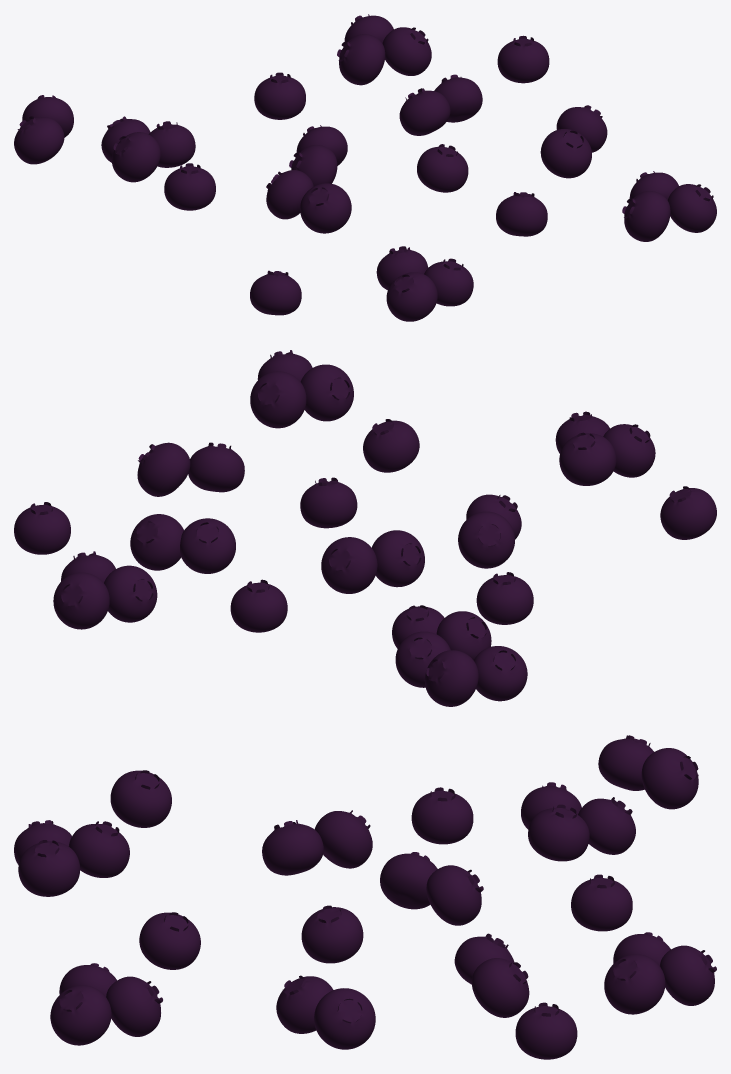
File: DecoBlueberry.glb
3 renders of one model, top to bottom at view 1: azimuth 30°, elevation 25°; view 2: azimuth 150°, elevation 25°; view 3: azimuth 270°, elevation 25°, orthographic. The views are drawn at different scales.
Parts seen in each view (by area): view 1: Sphere.023, Sphere.022, Sphere.033, Sphere.030, Sphere.017, Sphere.035, Sphere.041, Sphere.018, Sphere.039, Sphere.044, Sphere.036, Sphere.038 (+16 smaller); view 2: Sphere.024, Sphere.034, Sphere.040, Sphere.026, Sphere.019, Sphere.020, Sphere.037, Sphere.043, Sphere.041, Sphere.035, Sphere.025, Sphere.027 (+16 smaller); view 3: Sphere.032, Sphere.036, Sphere.042, Sphere.031, Sphere.027, Sphere.017, Sphere.021, Sphere.037, Sphere.039, Sphere.044, Sphere.018, Sphere.043 (+16 smaller).
Part boxes in pixels (<box>): Sphere.023: <box>300,183,351,233</box>; Sphere.022: <box>386,272,437,321</box>; Sphere.033: <box>540,129,591,178</box>; Sphere.030: <box>112,132,160,182</box>; Sphere.017: <box>417,144,468,192</box>; Sphere.035: <box>622,191,670,241</box>; Sphere.041: <box>337,34,385,85</box>; Sphere.018: <box>254,72,305,119</box>; Sphere.039: <box>497,35,549,83</box>; Sphere.044: <box>164,163,215,210</box>; Sphere.036: <box>667,184,716,232</box>; Sphere.038: <box>14,116,64,164</box>; Sphere.024: <box>458,511,514,568</box>; Sphere.034: <box>250,371,306,428</box>; Sphere.040: <box>53,572,109,629</box>; Sphere.026: <box>321,537,377,593</box>; Sphere.019: <box>180,518,235,573</box>; Sphere.020: <box>559,432,616,485</box>; Sphere.037: <box>424,650,478,706</box>; Sphere.043: <box>130,514,183,570</box>; Sphere.041: <box>104,565,157,622</box>; Sphere.035: <box>300,364,353,421</box>; Sphere.025: <box>371,530,424,587</box>; Sphere.027: <box>363,419,419,472</box>; Sphere.032: <box>314,988,375,1049</box>; Sphere.036: <box>50,985,111,1045</box>; Sphere.042: <box>604,954,665,1014</box>; Sphere.031: <box>110,770,171,827</box>; Sphere.027: <box>139,912,200,969</box>; Sphere.017: <box>301,905,363,963</box>; Sphere.021: <box>18,840,80,896</box>; Sphere.037: <box>641,748,698,809</box>; Sphere.039: <box>515,1002,577,1059</box>; Sphere.044: <box>411,787,473,844</box>; Sphere.018: <box>571,874,632,931</box>; Sphere.043: <box>471,958,529,1017</box>.
Bounding box in the file's own units: 1.44 × 0.1652 × 1.49.
